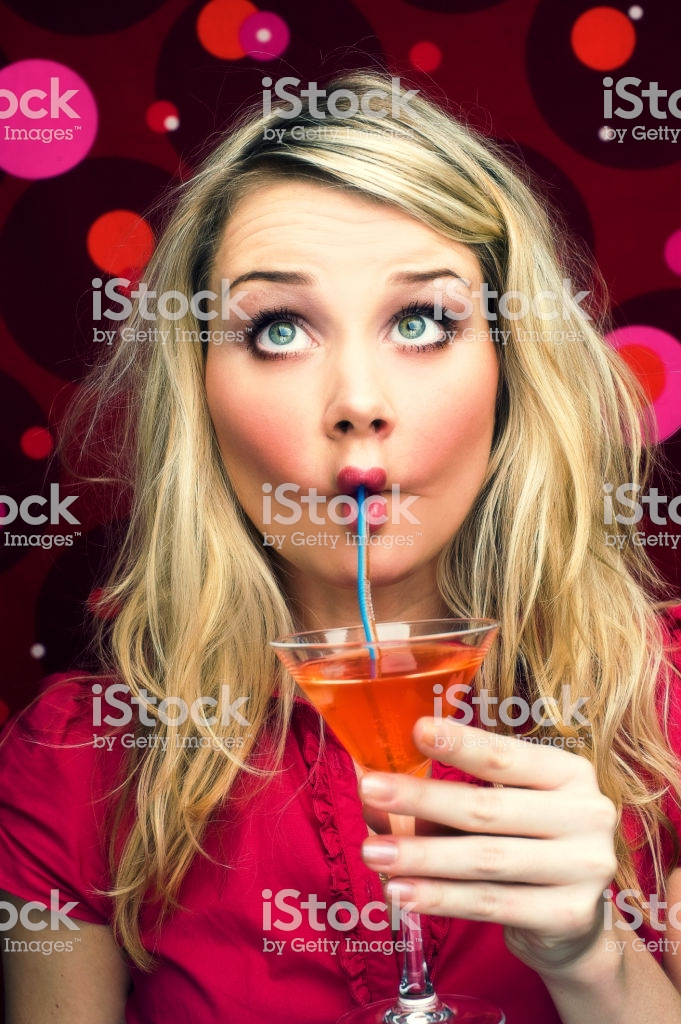drinking: (58, 80, 643, 808)
